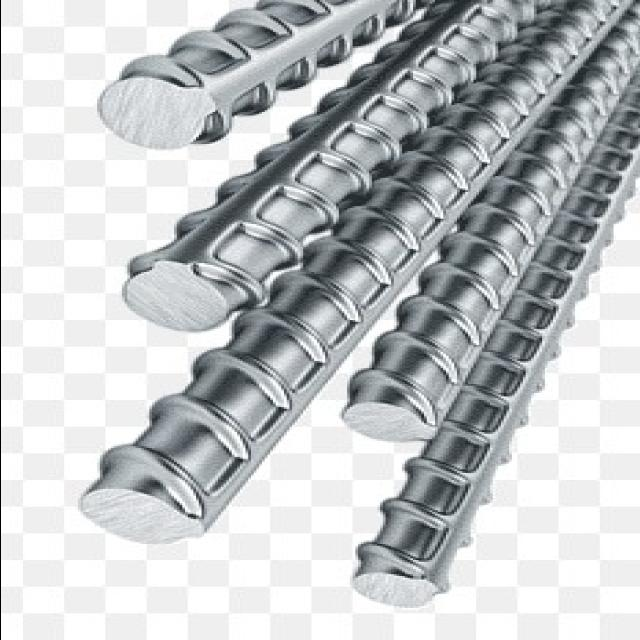Rebar: (95, 74, 217, 156), (116, 262, 227, 338), (95, 477, 213, 545), (325, 391, 445, 457), (351, 568, 439, 619)
